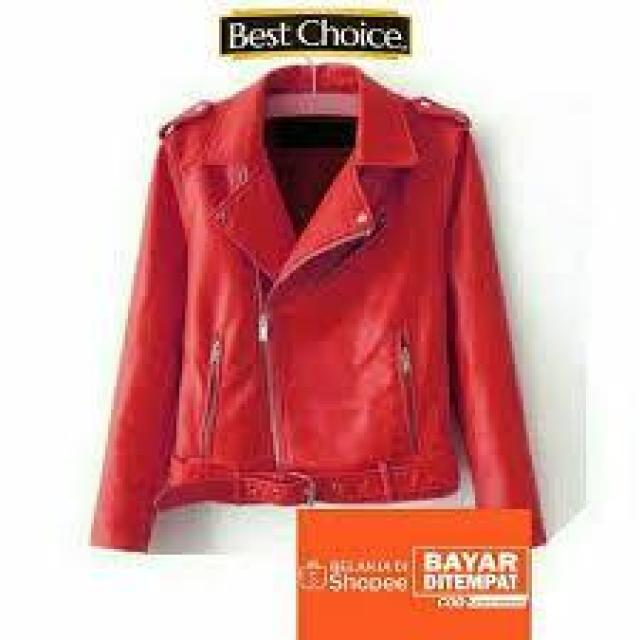jacket: (80, 54, 560, 569)
